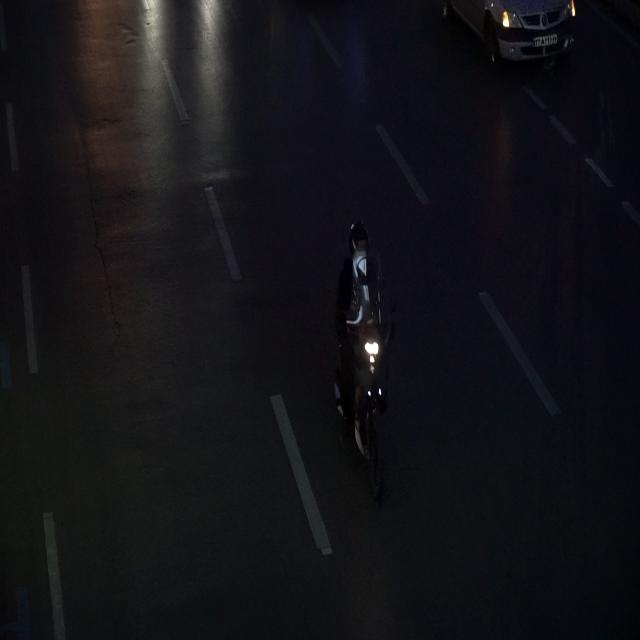car: (438, 0, 580, 65)
motor: (331, 218, 392, 498)
